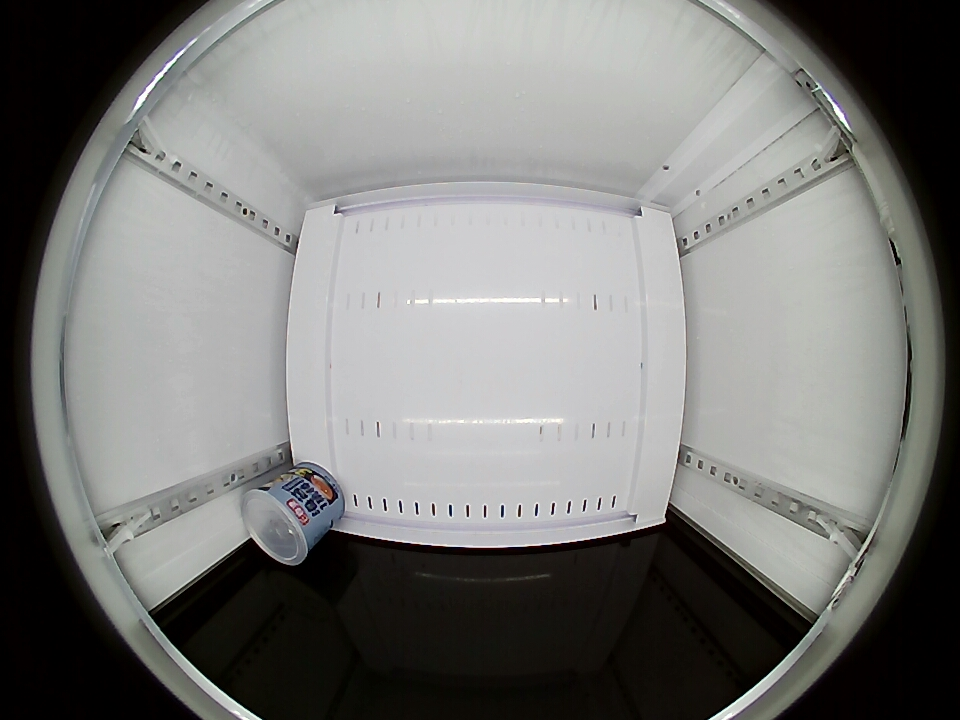haitai: (242, 481, 319, 565)
